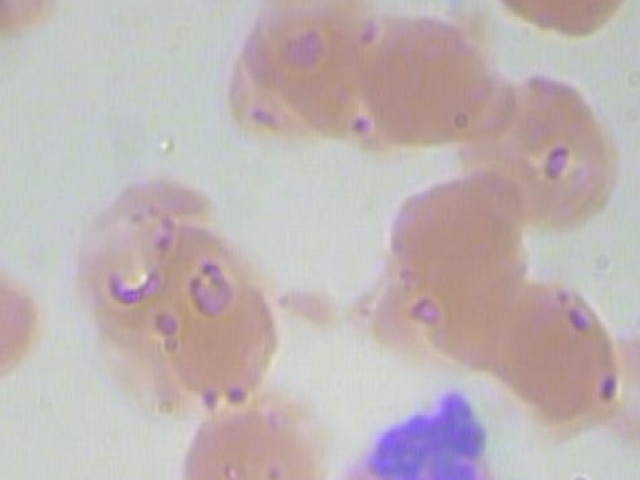RBC: (462, 61, 630, 240), (483, 276, 631, 439), (356, 8, 499, 152), (384, 163, 527, 306), (167, 396, 339, 480), (0, 236, 59, 400), (481, 0, 640, 36), (0, 0, 89, 60)
WBC: (329, 386, 509, 480)
